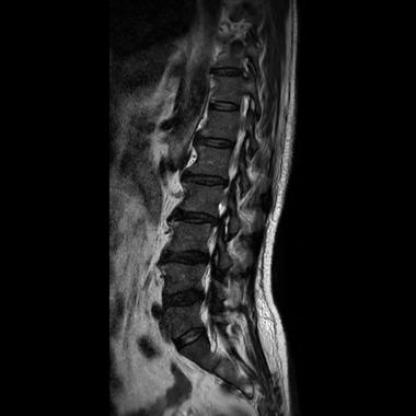Annular Tearrotation: (158, 286, 204, 311)
Disc Bulgerotation: (158, 287, 204, 312), (168, 208, 219, 229), (159, 248, 210, 267)
Disc Protrusionrotation: (183, 171, 233, 191)
